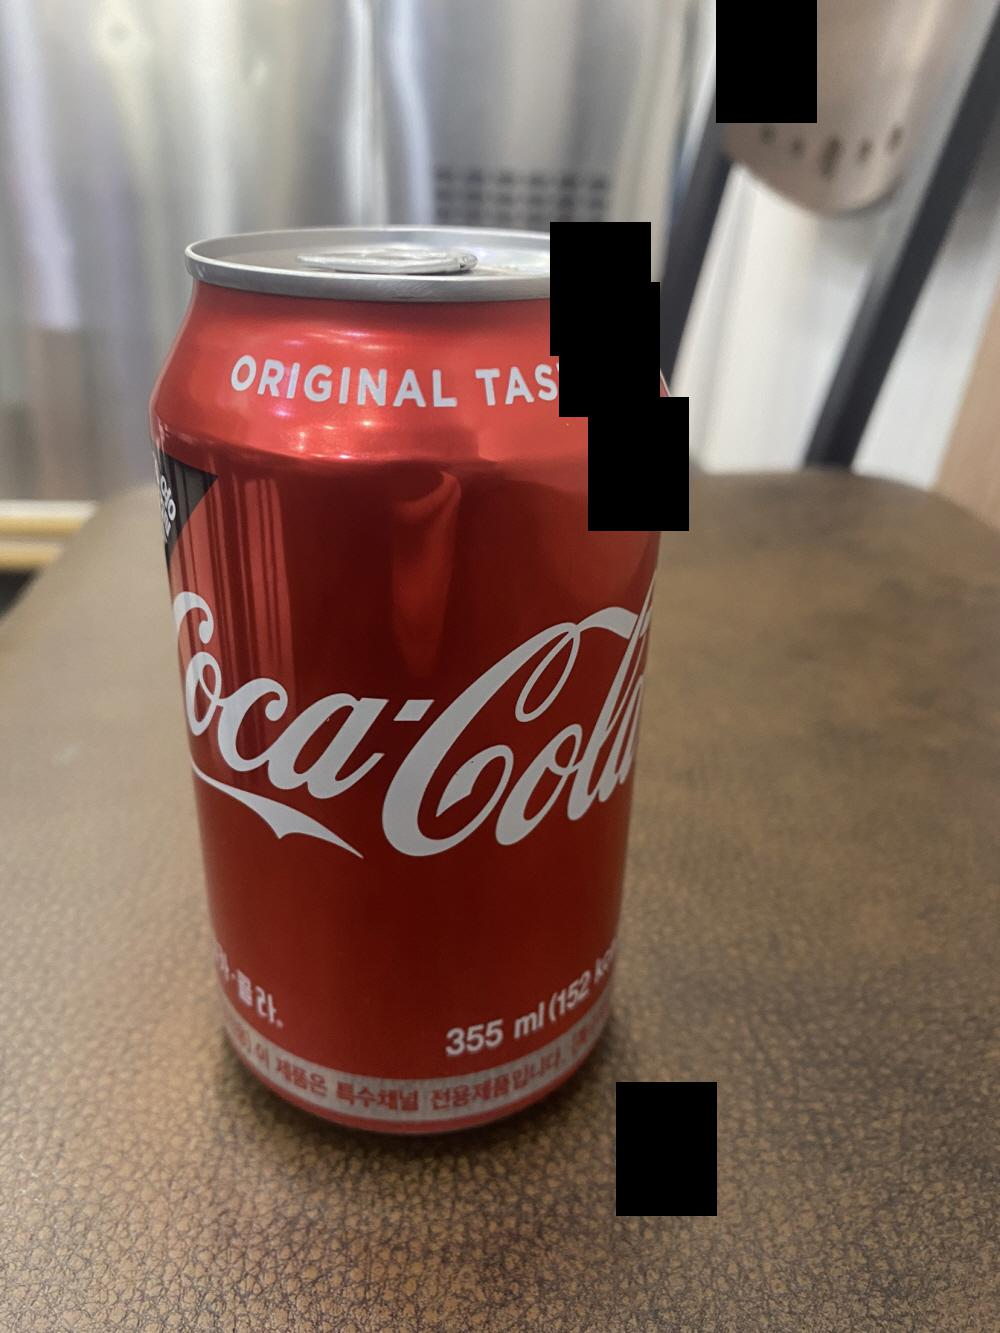cocacola: (145, 224, 681, 1163)
